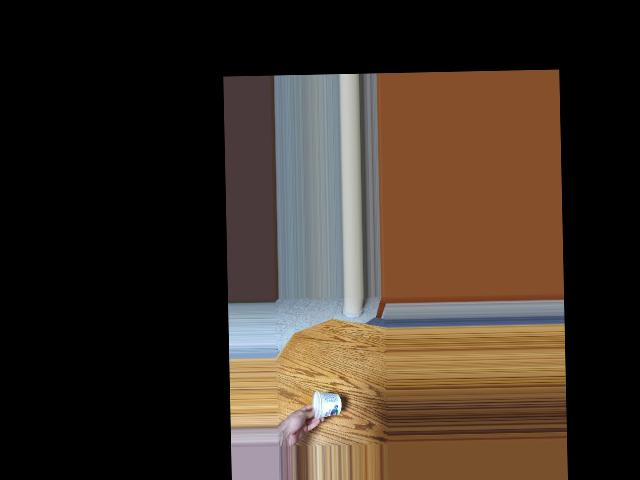cotage: (306, 386, 339, 421)
